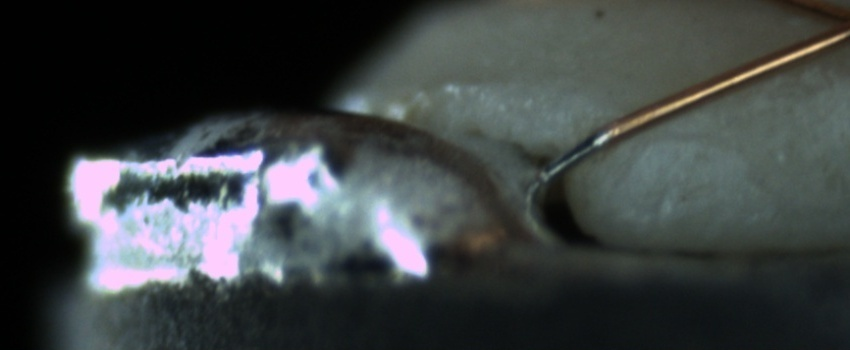CL: (798, 0, 850, 59)
DL: (634, 109, 728, 165)
TS: (541, 129, 615, 182)
TTCW: (536, 111, 630, 182)
